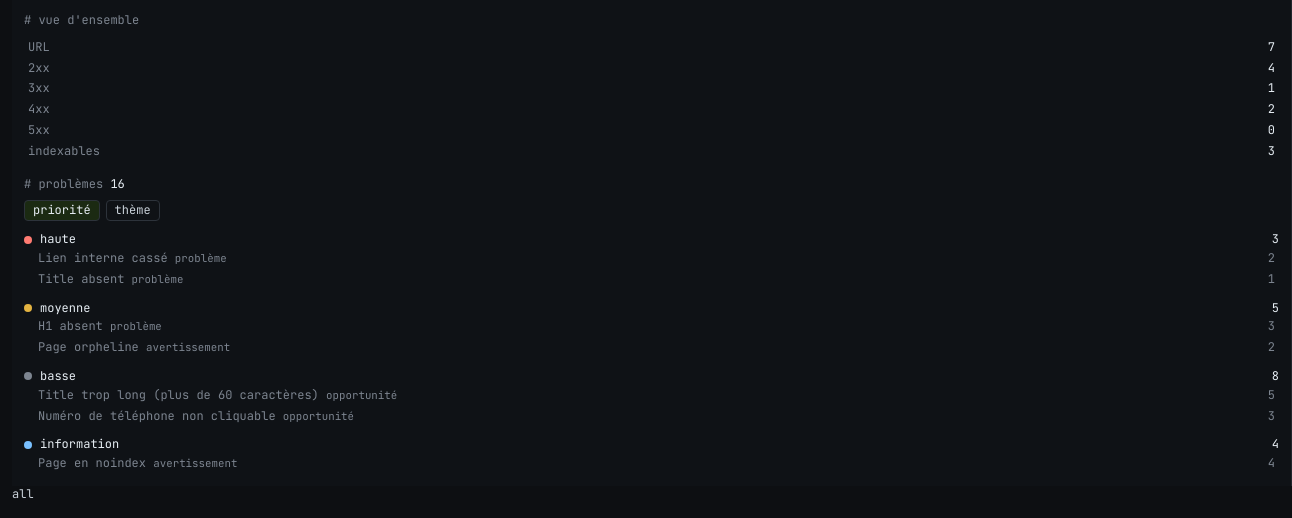
Test: un clic sur « 4xx » règle le filtre de statut, un second clic le retire
The width and height of the screenshot is (1292, 518).
Click the button with aria-label "4xx, 2": {"x": 39, "y": 109} [24,99,1279,120]
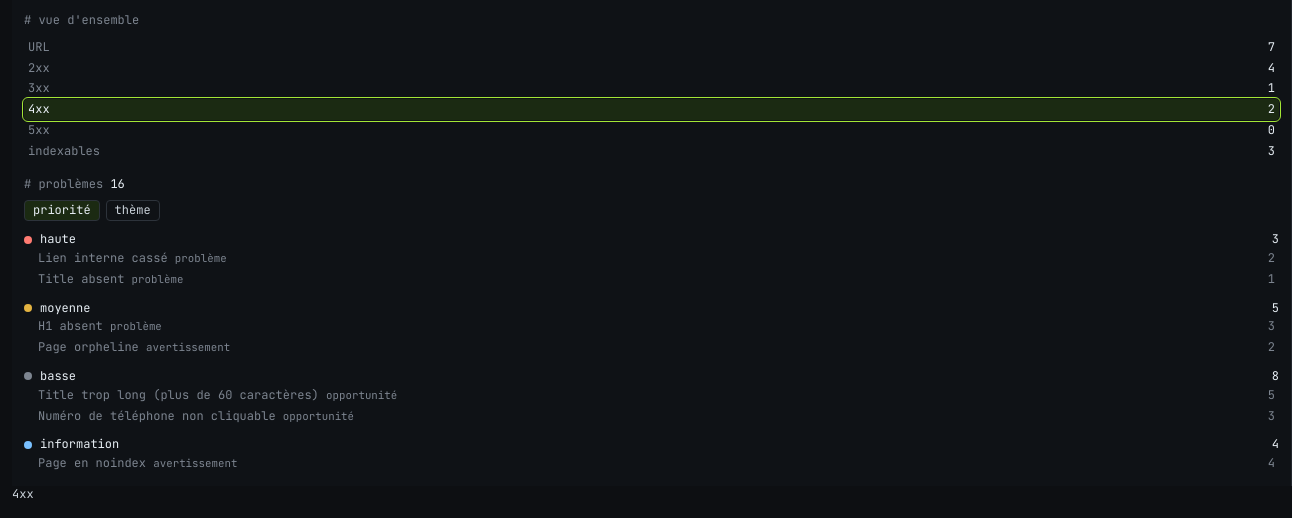
Expected: the text with test id "status-class" reads "4xx", [12,486,34,502]
Click the button with aria-label "4xx, 2": {"x": 39, "y": 109} [24,99,1279,120]
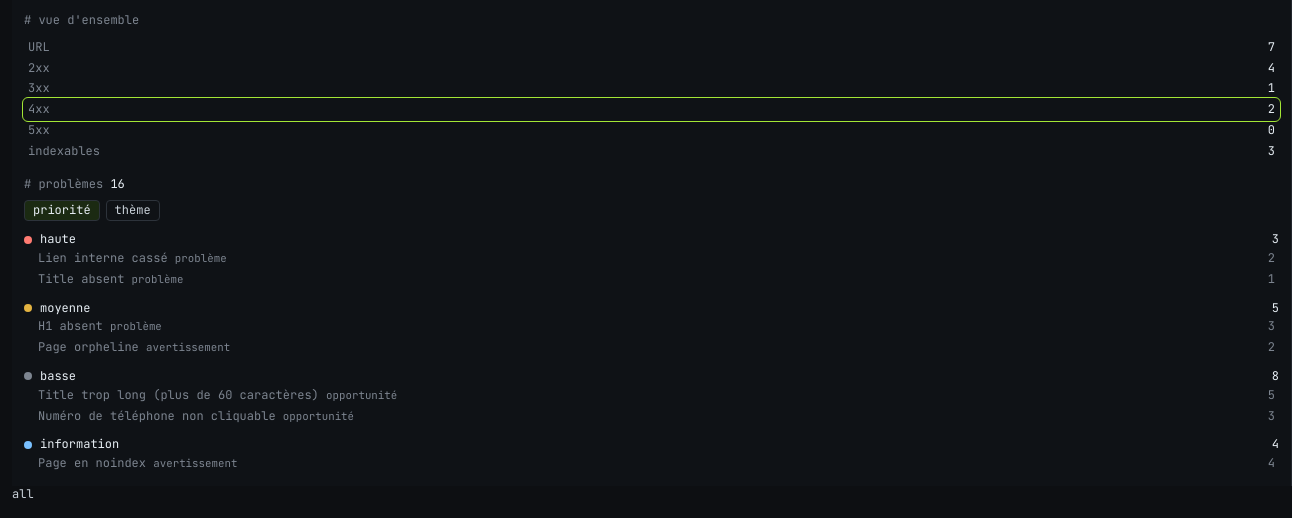
Expected: the text with test id "status-class" reads "all", [12,486,34,502]
